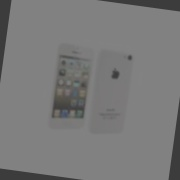iphone: (91, 47, 128, 135), (50, 48, 87, 134)
